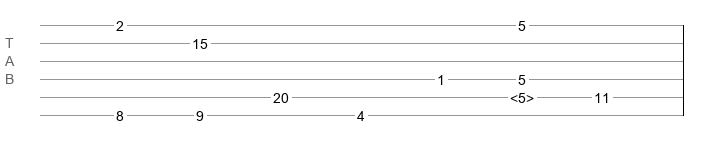1: (437, 72, 445, 82)
11: (594, 90, 610, 100)
15: (192, 36, 208, 46)
2: (116, 18, 124, 28)
20: (273, 90, 289, 100)
4: (357, 108, 365, 118)
5: (518, 72, 526, 82), (518, 18, 526, 28)
8: (116, 108, 124, 118)
9: (196, 108, 204, 118)
harmonic: (510, 90, 534, 100)
